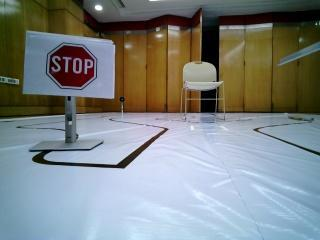stop: (28, 34, 112, 97)
